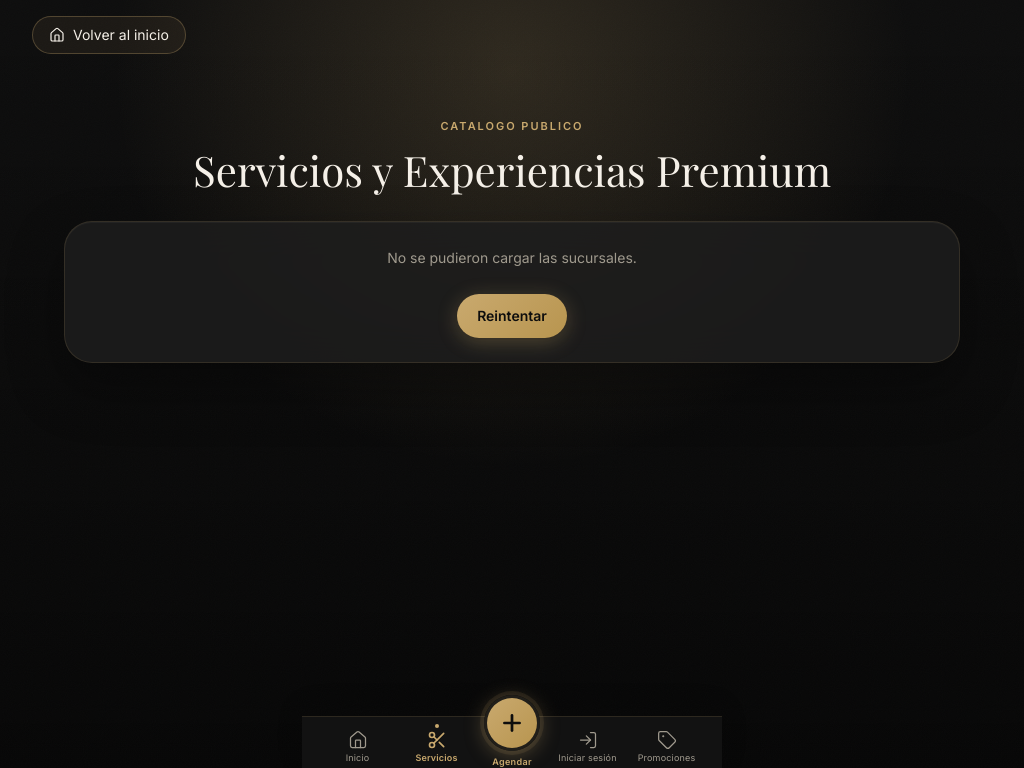
catálogo público por sucursal › un error de sucursales reintenta sucursales y no consulta catálogos globales
The width and height of the screenshot is (1024, 768).
Click the button "Reintentar": (512, 316) [457, 294, 567, 338]
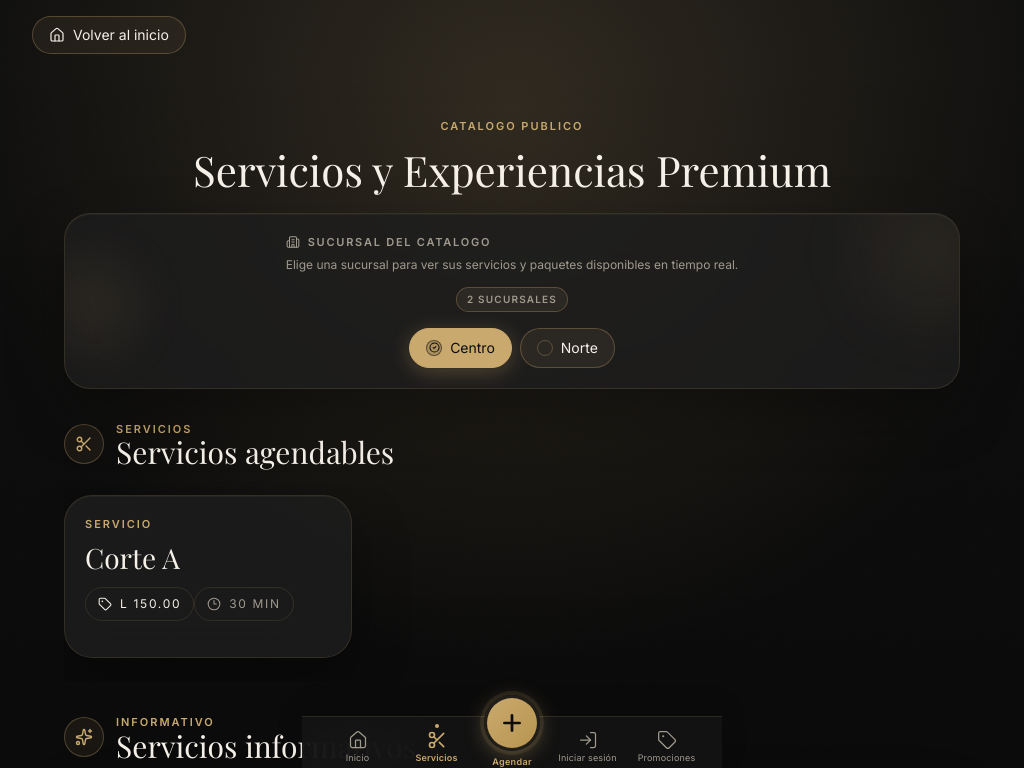
Check: the heading "Corte A" is shown, box [85, 545, 180, 571]
